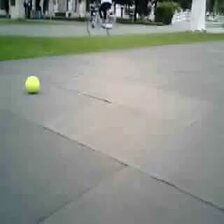tennis: (25, 75, 41, 93)
